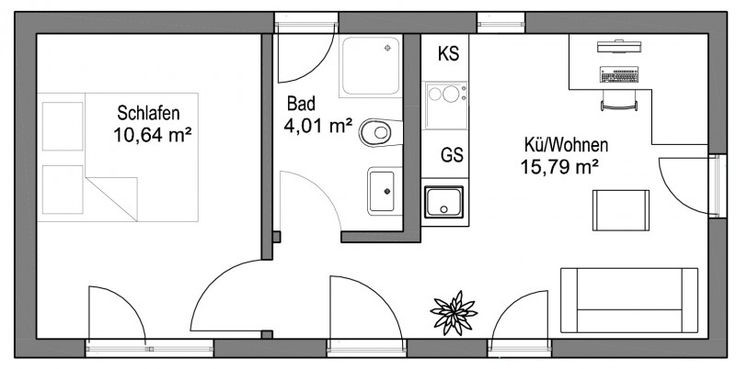door: (321, 267, 406, 358), (78, 279, 149, 351), (487, 284, 552, 352), (654, 149, 713, 222), (277, 169, 337, 238), (278, 32, 346, 82)
room: (419, 31, 723, 363), (17, 23, 266, 348), (266, 28, 426, 256), (701, 216, 731, 358)
wall: (10, 6, 40, 360), (14, 6, 275, 45), (520, 9, 726, 43), (552, 335, 732, 366), (700, 5, 736, 154), (258, 25, 275, 256), (403, 31, 421, 245), (338, 11, 483, 35), (706, 216, 729, 361), (209, 340, 330, 362), (13, 328, 89, 363), (407, 337, 492, 361), (339, 224, 420, 244)
window: (482, 12, 522, 33)
